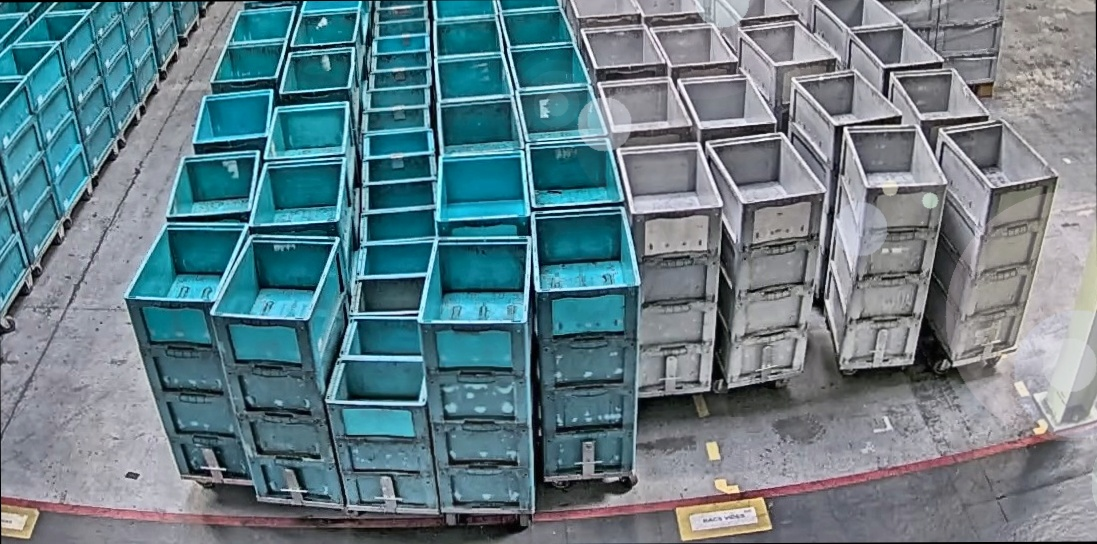4G: (924, 116, 1061, 362), (703, 132, 829, 386), (821, 124, 949, 367), (614, 141, 725, 395)
B4: (210, 231, 352, 508), (121, 222, 252, 482), (416, 234, 538, 512), (528, 207, 642, 478)
B8: (324, 314, 441, 511)
